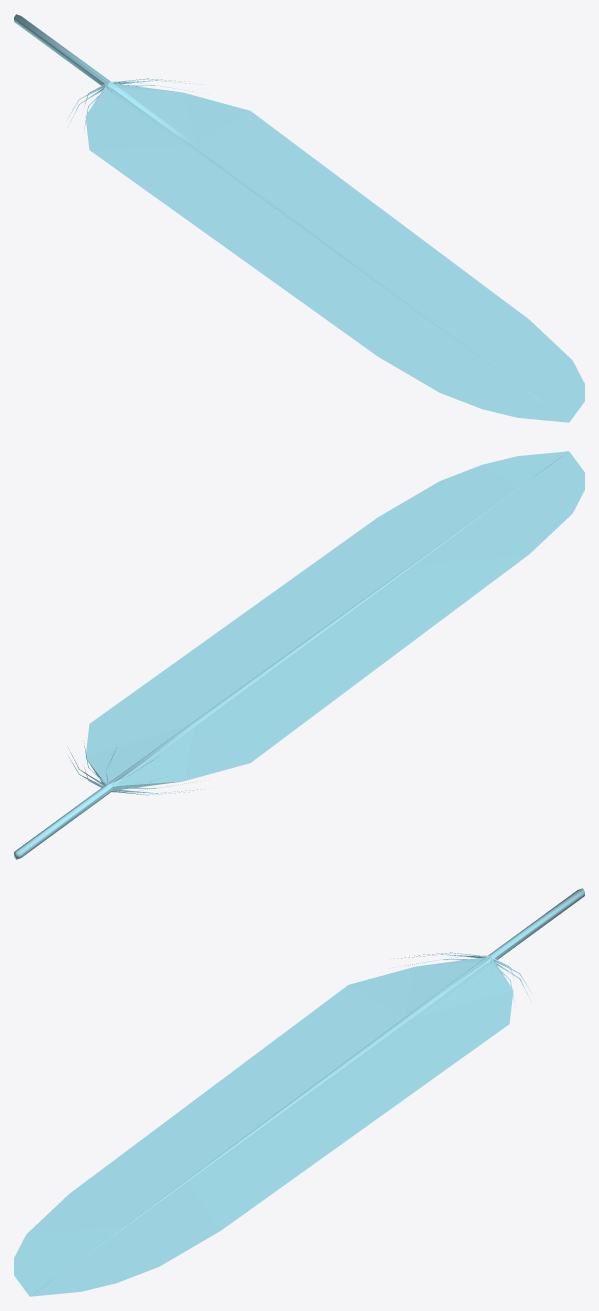
Rendered from Gospel_Blade.FBX.
3 renders of one model, top to bottom at view 1: azimuth 30°, elevation 25°; view 2: azimuth 150°, elevation 25°; view 3: azimuth 330°, elevation 25°, orthographic.
Parts seen in each view (by area): view 1: Box001; view 2: Box001; view 3: Box001.
Part boxes in pixels (x1,y1,x2,y2): Box001: (14, 14, 584, 422); Box001: (14, 451, 584, 859); Box001: (14, 888, 584, 1296).
Bounding box in the file's own units: 2.28 × 0.4383 × 13.54.
